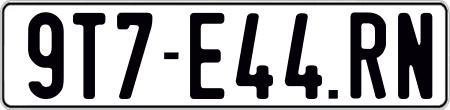4: (283, 10, 323, 101), (233, 11, 272, 100)
7: (114, 12, 152, 101)
9: (27, 11, 65, 102)
E: (190, 11, 224, 99)
N: (398, 12, 436, 98)
R: (350, 9, 388, 100)
T: (72, 11, 107, 97)
